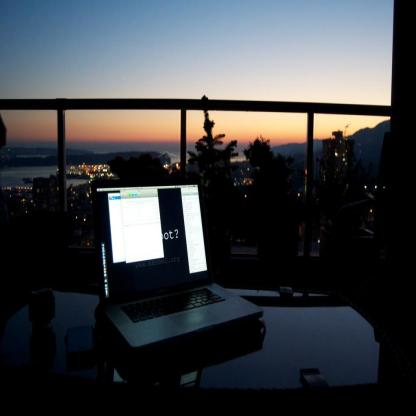board: (91, 170, 259, 385)
